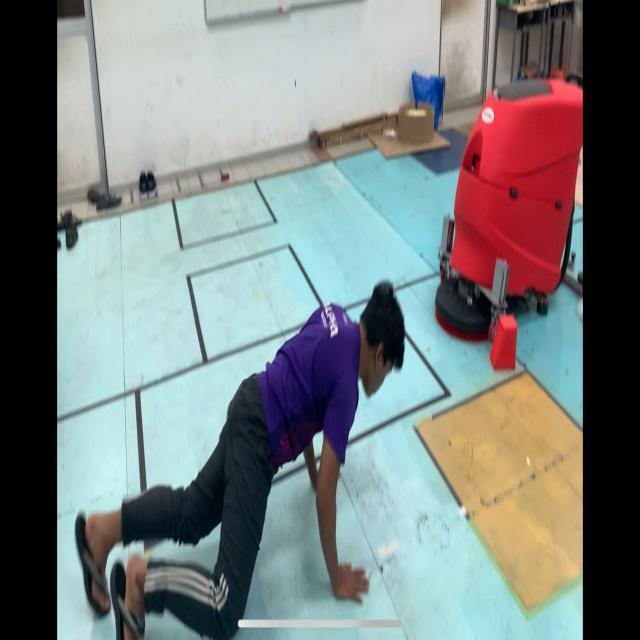fall: (72, 262, 414, 640)
